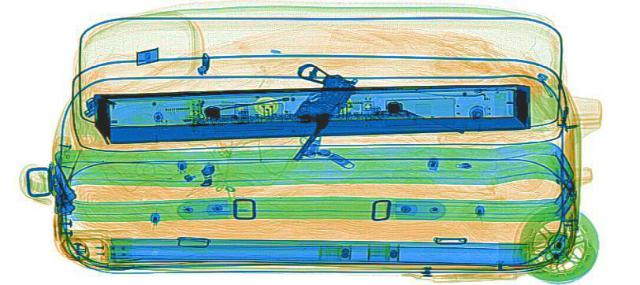Gun: (233, 61, 367, 160)
